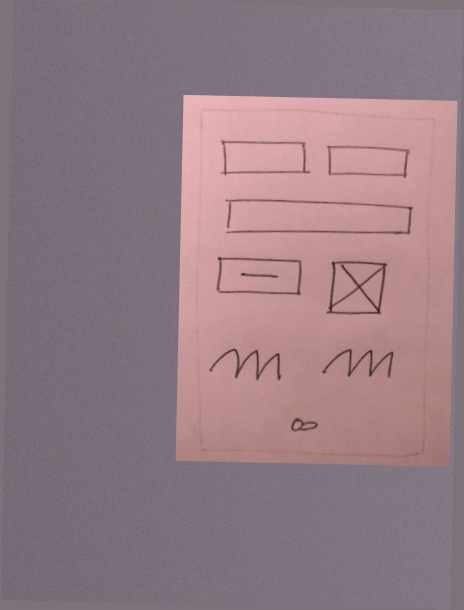button: (212, 252, 306, 302)
image: (325, 257, 392, 319)
switch: (282, 411, 324, 439)
text: (205, 342, 284, 387), (317, 342, 398, 384)
text_input: (220, 195, 416, 240), (215, 137, 315, 179), (323, 142, 411, 183)
